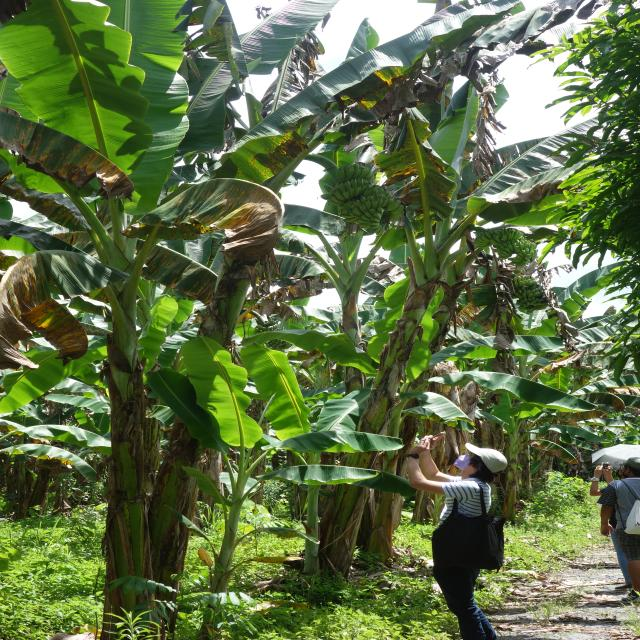Banana-plant: (297, 195, 450, 600), (60, 171, 160, 630)
